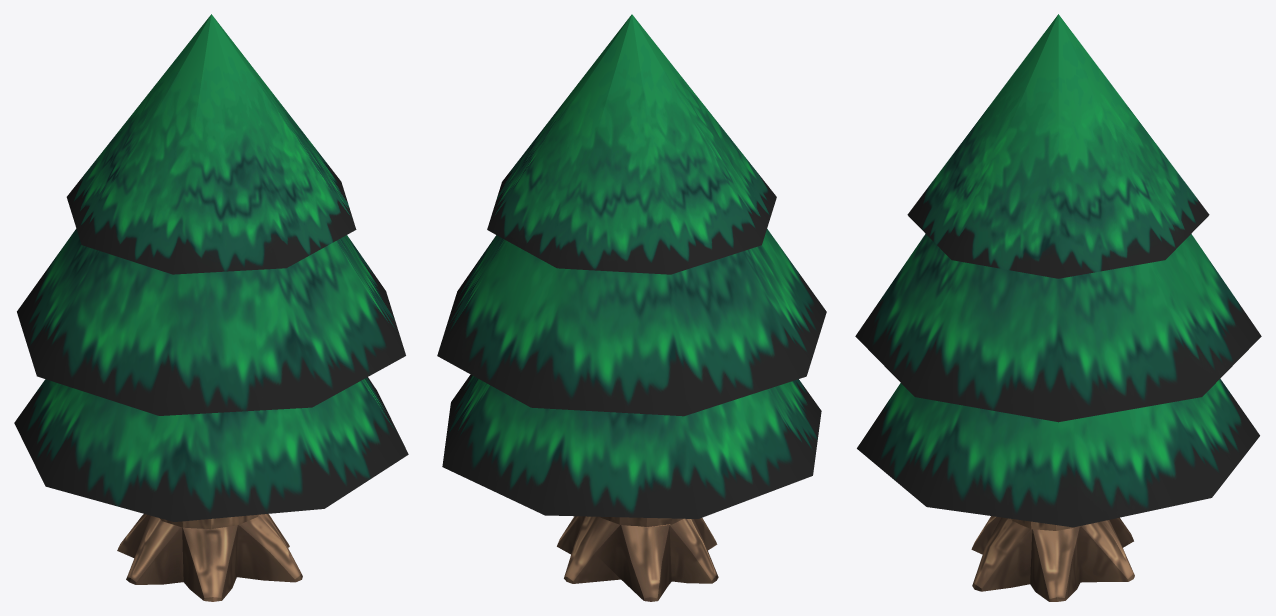
The model's file is PineTree1.fbx.
3 views of the same model, side by side, from view 1: azimuth 30°, elevation 25°; view 2: azimuth 150°, elevation 25°; view 3: azimuth 270°, elevation 25° (orthographic).
Parts seen in each view (by area): view 1: pCone2, pCone1, pCone3, pasted__pasted__pCylinder56, pasted__pasted__pCylinder57; view 2: pCone2, pCone1, pCone3, pasted__pasted__pCylinder56, pasted__pasted__pCylinder57; view 3: pCone2, pCone1, pCone3, pasted__pasted__pCylinder56.
Boxes of the visible parts, x1,y1,x2,y2 form: pCone2: (17,228,405,415); pCone1: (66,14,356,274); pCone3: (14,377,408,521); pasted__pasted__pCylinder56: (117,514,302,601); pasted__pasted__pCylinder57: (160,514,258,529); pCone2: (437,229,826,416); pCone1: (487,14,776,274); pCone3: (442,374,821,518); pasted__pasted__pCylinder56: (557,516,718,601); pasted__pasted__pCylinder57: (598,516,683,526); pCone2: (855,234,1261,422); pCone1: (907,14,1209,278); pCone3: (857,378,1259,527); pasted__pasted__pCylinder56: (971,516,1134,601).
Bounding box in the file's own units: 6.36 × 9.53 × 6.36.
